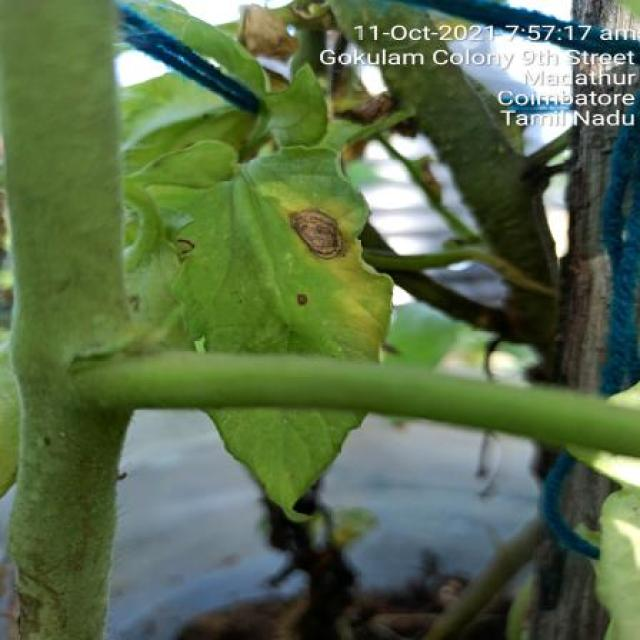Early Blight: (168, 148, 393, 523)
